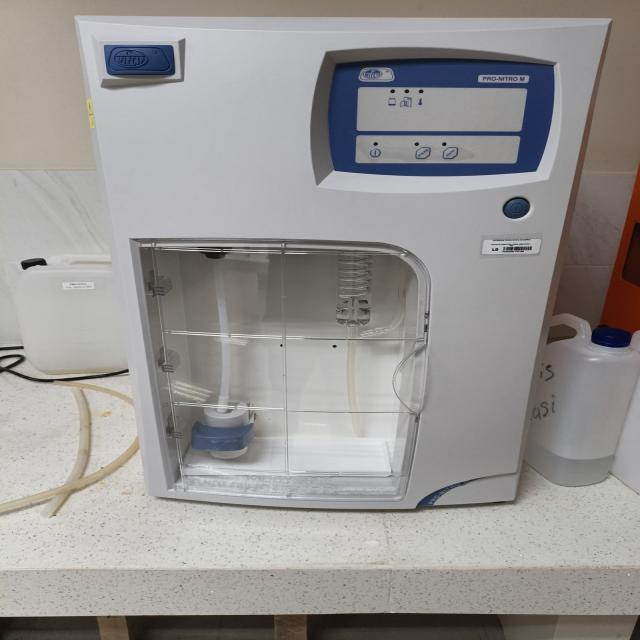Destilacion por Arrastre de Vapor: (77, 16, 609, 510)
